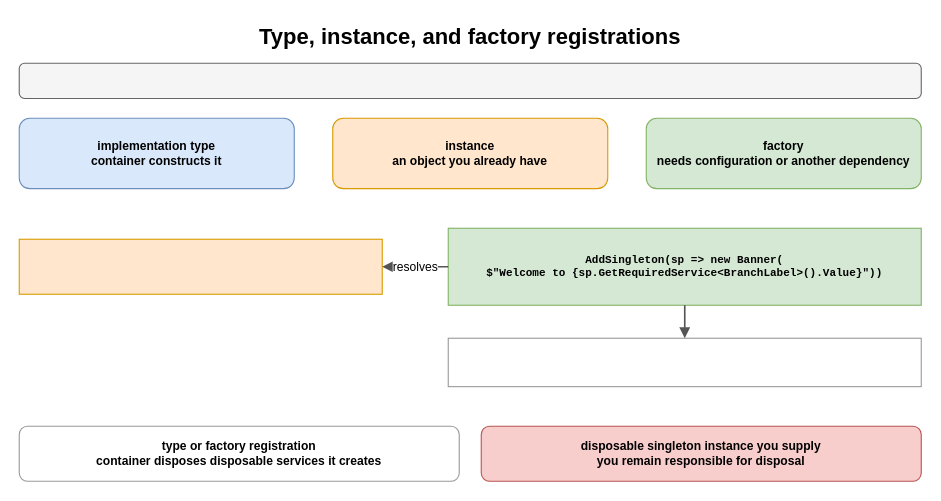
This 941x501 diagram has some shape labels left out. Here are the shapes that lost their labels. From the top down, the centre of each, then its label:
[469,80]: The overload selects how the instance is obtained; the lifetime selects reuse
[200,266]: AddSingleton(new BranchLabel("Maps"))
[684,362]: GET /banner → banner.Text → "Welcome to Maps"
